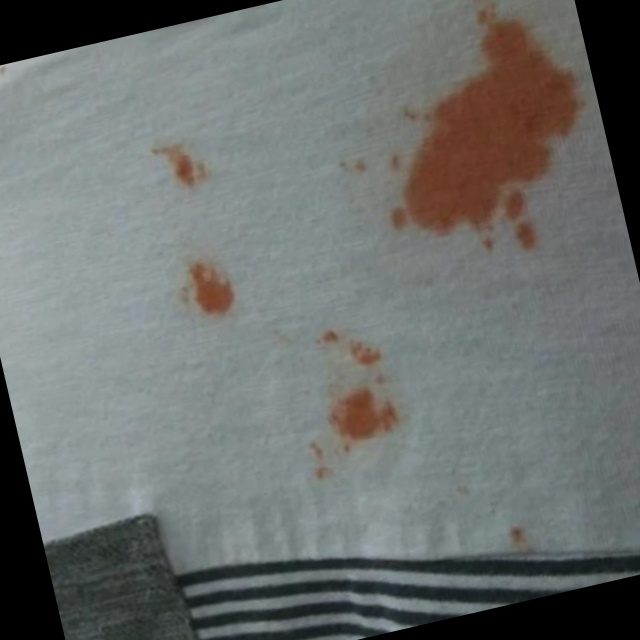kimchi: (298, 0, 620, 291), (269, 309, 440, 489), (151, 242, 255, 353), (143, 119, 219, 212), (483, 508, 542, 556), (440, 471, 491, 510)
